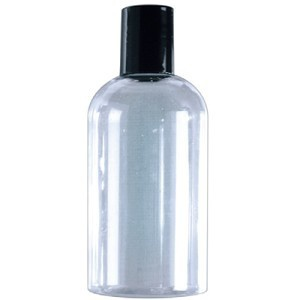emptybottle: (87, 4, 210, 296)
